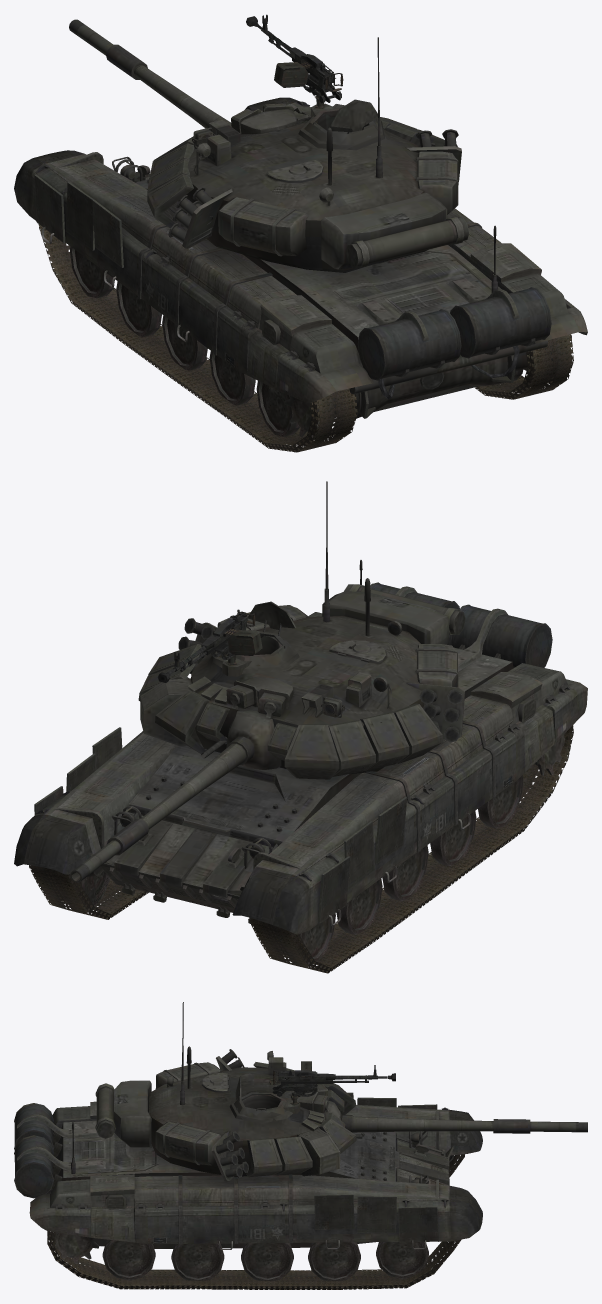
The model's file is T-90 MTB.dae.
3 views of the same model, one above another, from view 1: azimuth 30°, elevation 25°; view 2: azimuth 150°, elevation 25°; view 3: azimuth 270°, elevation 25° (orthographic). The views are drawn at different scales.
Parts seen in each view (by area): view 1: chassis, Turret, track, wheel_2, wheel_5, wheel_4, wheel_3, wheel_1, wheels; view 2: chassis, Turret, track, wheel_2, wheel_3, wheel_5, wheel_4, wheel_1, wheels; view 3: chassis, Turret, track, wheel_7, wheel_8, wheel_10, wheel_9, wheel_6, wheels.
Boxes of the visible parts, x1,y1,x2,y2 form: chassis: (14, 97, 587, 418); Turret: (69, 14, 468, 272); track: (38, 224, 573, 452); wheel_2: (116, 281, 161, 336); wheel_5: (209, 351, 255, 405); wheel_4: (256, 381, 300, 436); wheel_3: (162, 315, 207, 370); wheel_1: (70, 246, 114, 298); wheels: (284, 346, 552, 437); chassis: (14, 560, 587, 934); Turret: (70, 481, 465, 882); track: (29, 725, 573, 973); wheel_2: (336, 878, 382, 934); wheel_3: (382, 845, 428, 900); wheel_5: (430, 811, 476, 866); wheel_4: (478, 775, 523, 828); wheel_1: (299, 913, 335, 963); wheels: (87, 734, 569, 925); chassis: (14, 1092, 482, 1249); Turret: (95, 1002, 587, 1181); track: (47, 1154, 464, 1289); wheel_7: (308, 1242, 360, 1280); wheel_8: (241, 1243, 293, 1280); wheel_10: (102, 1239, 155, 1280); wheel_9: (171, 1243, 224, 1280); wheel_6: (376, 1242, 428, 1279); wheels: (50, 1155, 454, 1263).
Bounding box in the file's own units: 4.62 × 10.83 × 5.22.
Materials: 3 (3 with a texture image).
